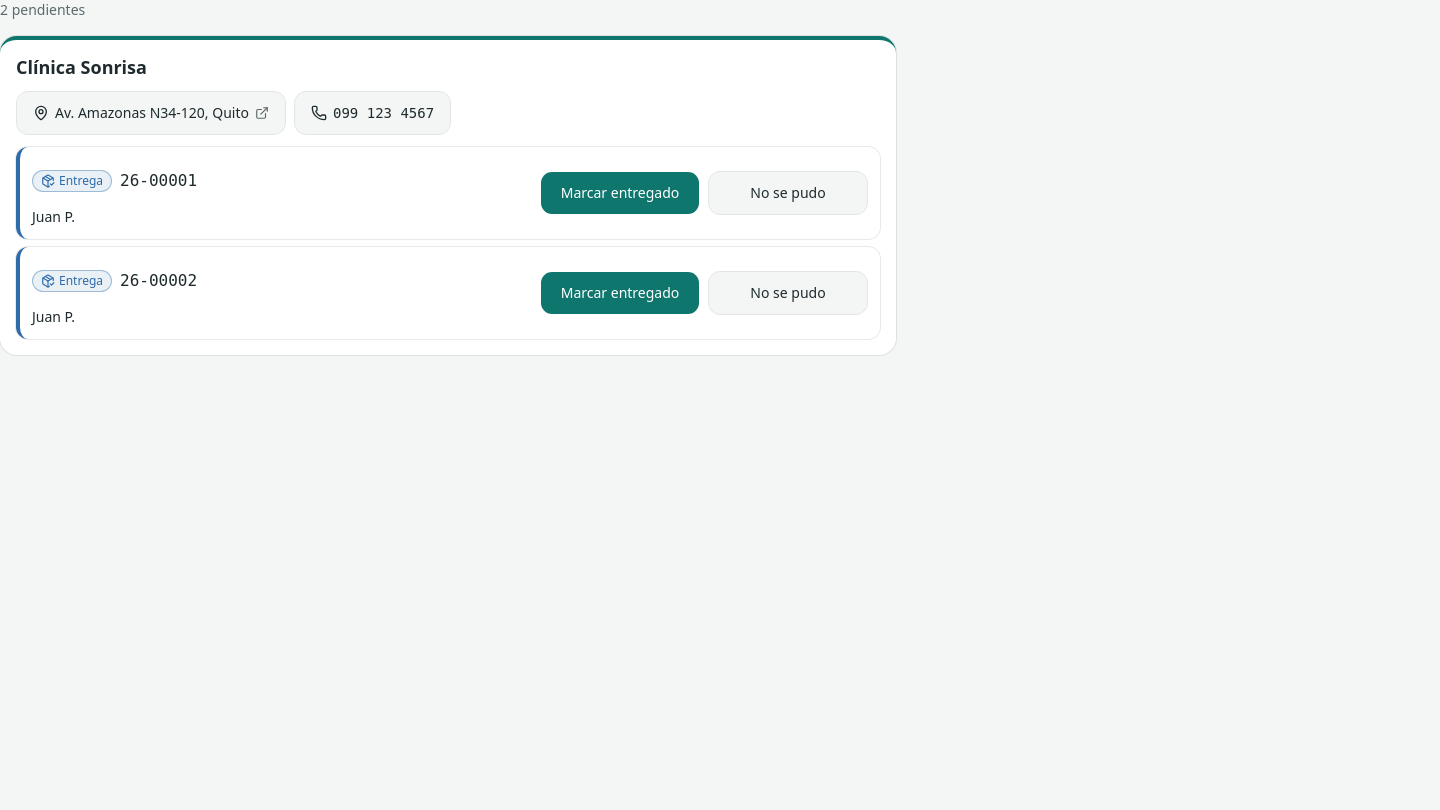
Test: DeliveriesDay › sin red, una acción en pausa no se repite › la pausa de un trabajo no bloquea la tarjeta de otro
Step 1. Click the button "No se pudo" in the row of "26-00001" → (788, 192), box [708, 170, 868, 214]
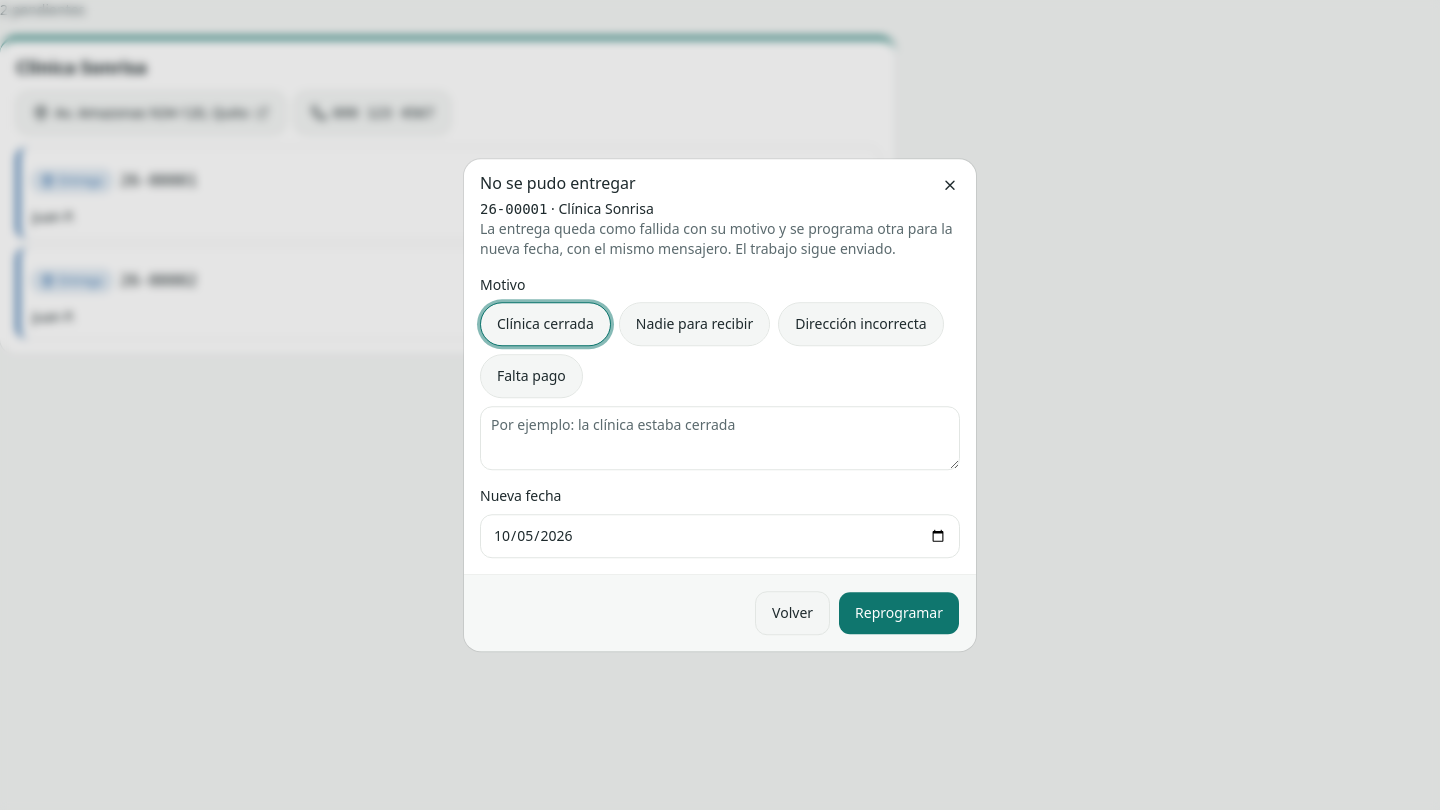
Step 2. Type "Clínica cerrada" into the text box labelled "Motivo" → (720, 438), box [480, 406, 960, 470]
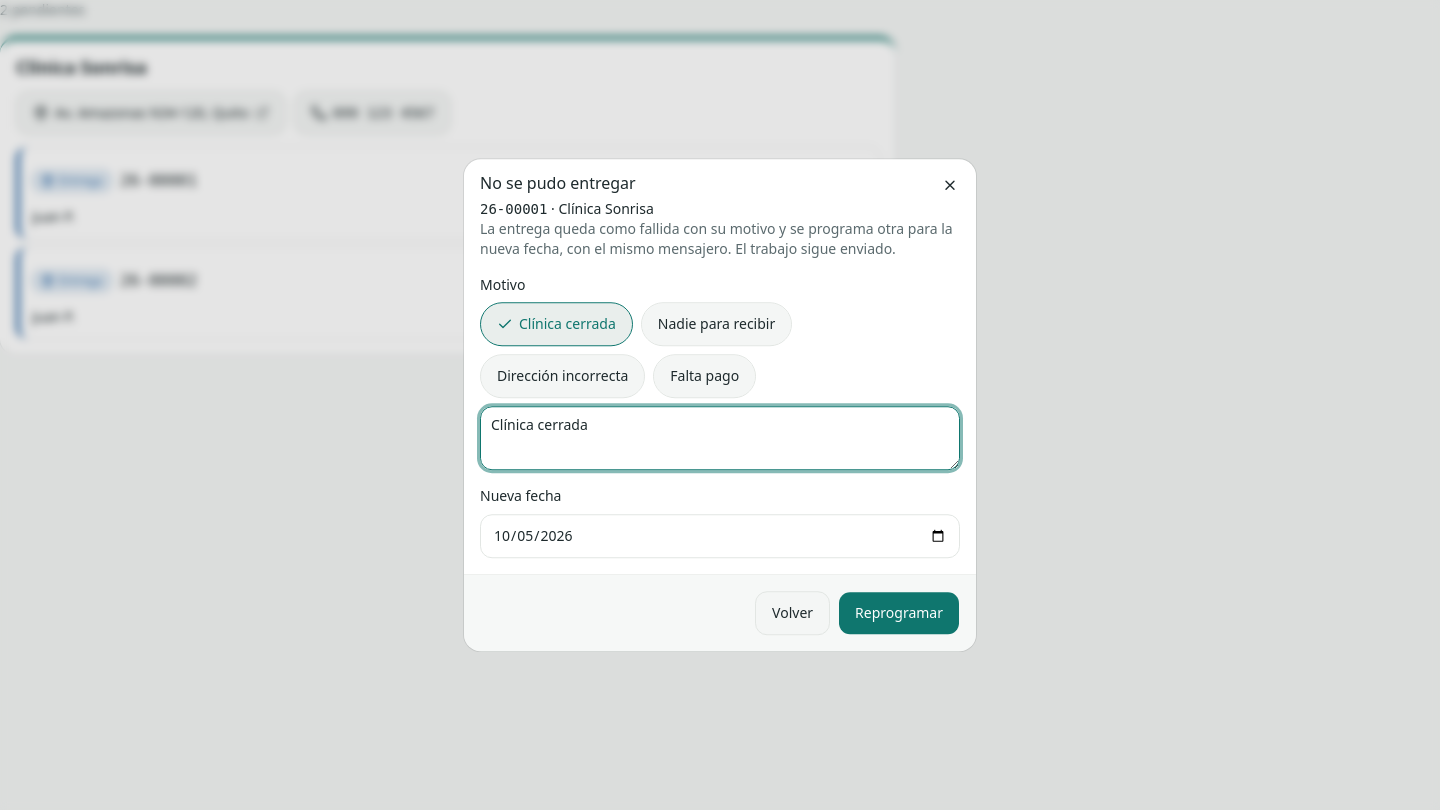
Step 3. Click the button "Reprogramar" → (899, 613), box [838, 591, 960, 635]
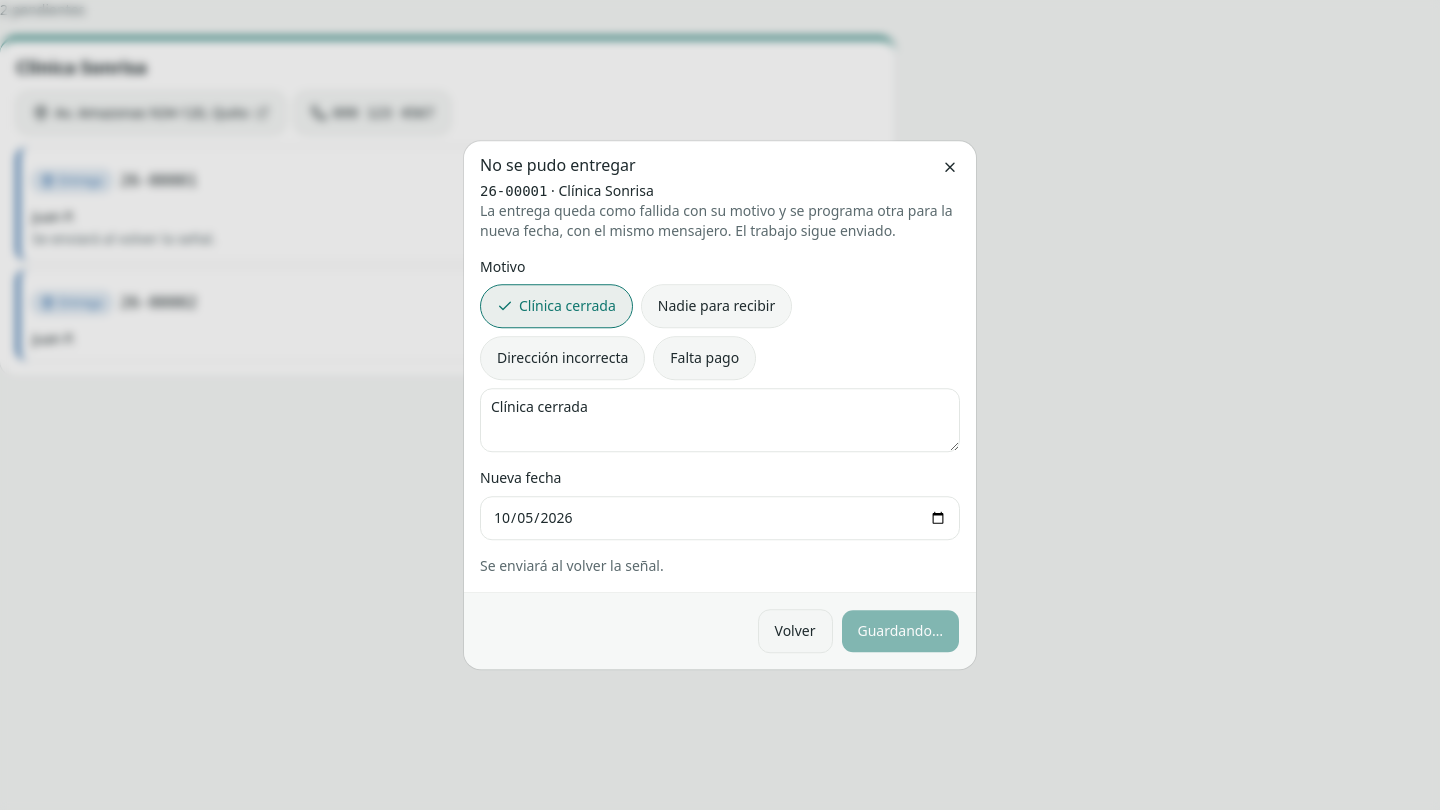
Step 4. Click the button "Volver" → (795, 631), box [758, 609, 832, 653]
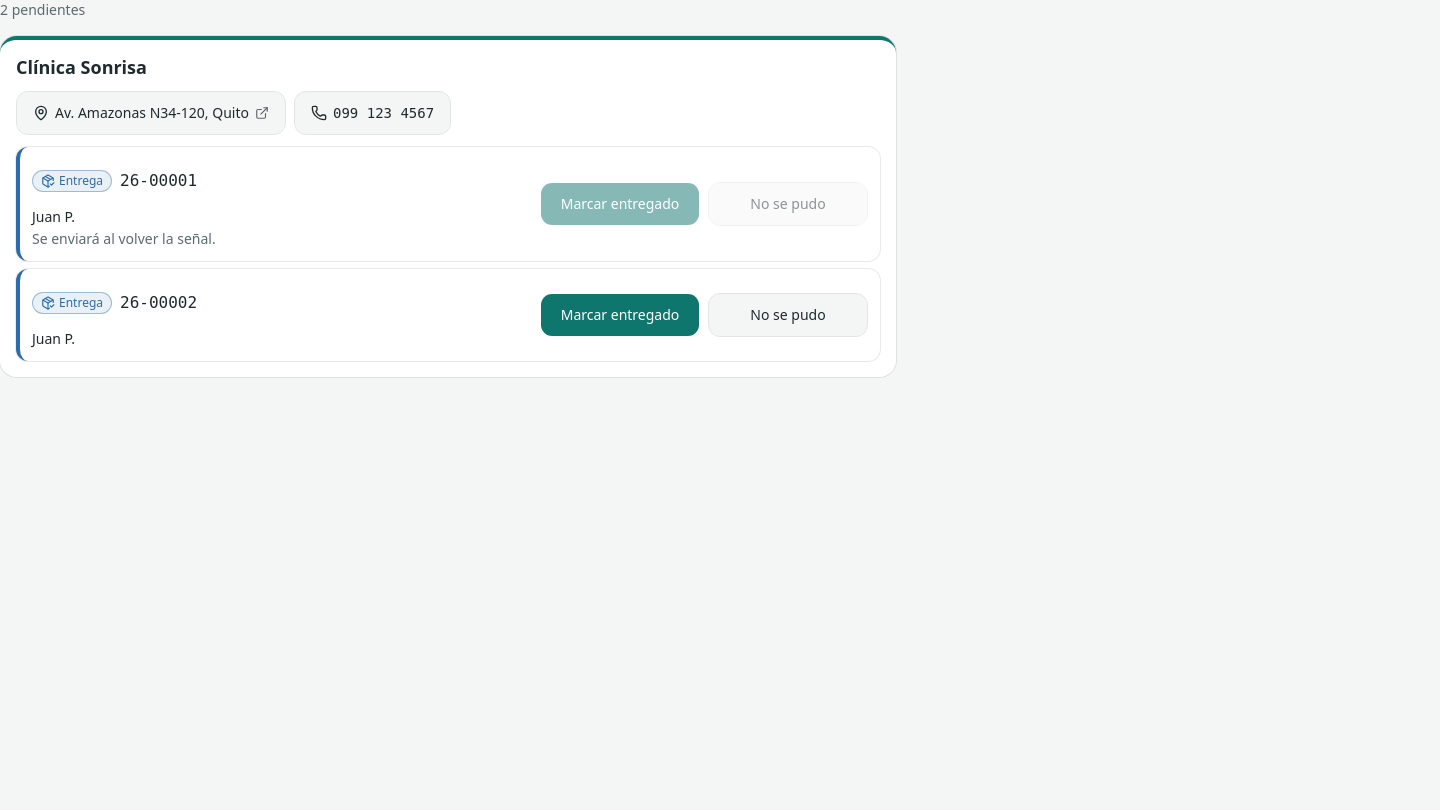
Expected: the button "No se pudo" in the row of "26-00002" is enabled, [708, 292, 868, 336]
Expected: the button "No se pudo" in the row of "26-00001" is disabled, [708, 182, 868, 226]
Expected: the dialog is gone
